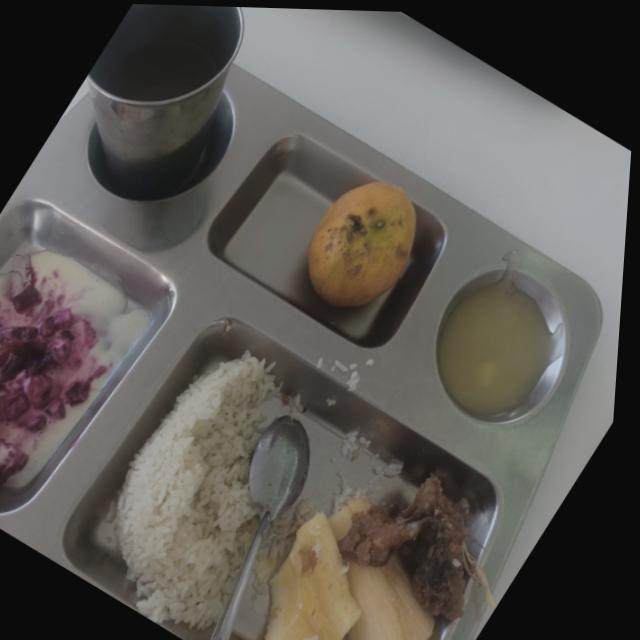arroz: (115, 352, 277, 629), (264, 505, 311, 557), (260, 569, 269, 577), (296, 399, 299, 408), (258, 560, 260, 562)
mandarina: (308, 182, 416, 307)
pescado frito: (340, 477, 468, 621)
yuca: (265, 509, 434, 639), (349, 499, 367, 510)
